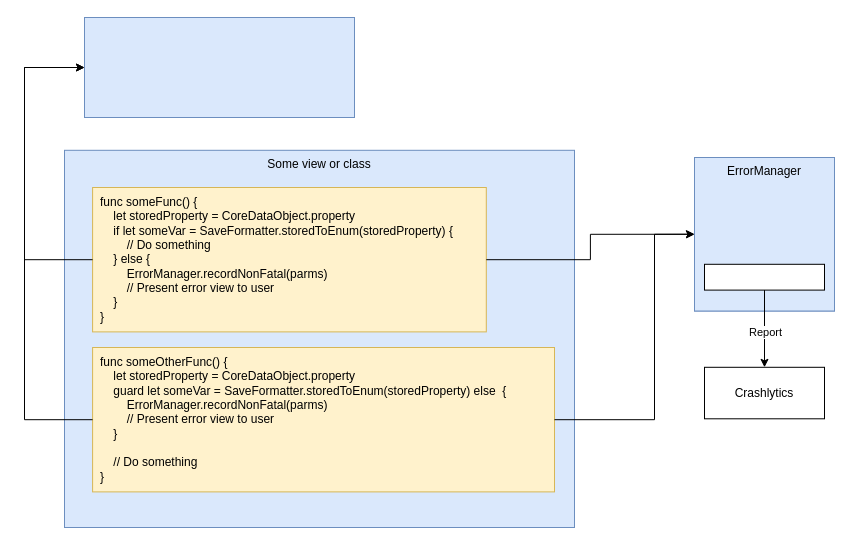
Image size: 852x545. Some labels were removed from this diagram. Each missing label, with the centre of its shape:
"NSError" goes at point 764,276.
"SaveFormatter" goes at point 219,67.
